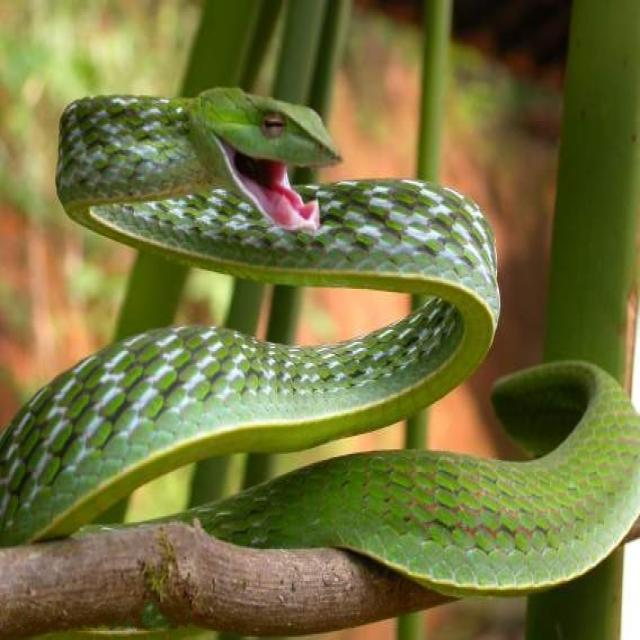Snake: (0, 82, 639, 616)
